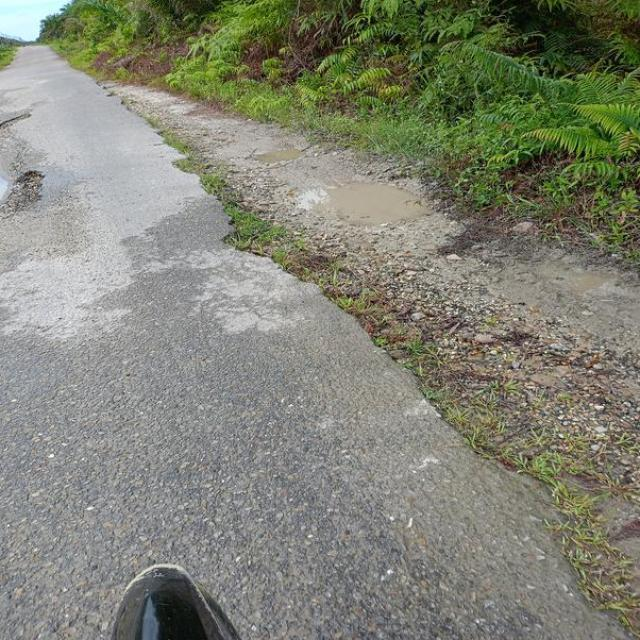Pinggir: (89, 72, 640, 640)
